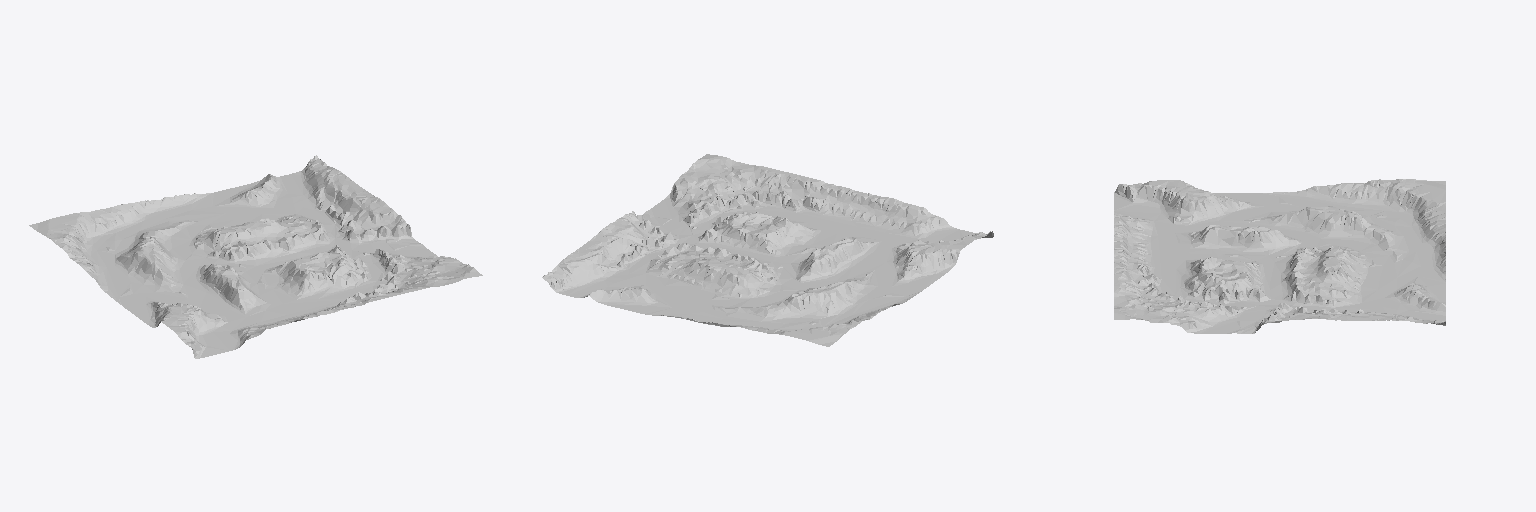
File: desert_test.obj
The picture shows the model from 3 angles: view 1: azimuth 30°, elevation 25°; view 2: azimuth 150°, elevation 25°; view 3: azimuth 270°, elevation 25°; orthographic projection.
Parts seen in each view (by area): view 1: desert:PlaneFBXASC046003; view 2: desert:PlaneFBXASC046003; view 3: desert:PlaneFBXASC046003.
Part boxes in pixels (bbox=[...]): desert:PlaneFBXASC046003: bbox=[29, 155, 482, 358]; desert:PlaneFBXASC046003: bbox=[542, 154, 993, 346]; desert:PlaneFBXASC046003: bbox=[1114, 179, 1445, 333].
Size of the model in its own units: 6 by 0.31 by 6.